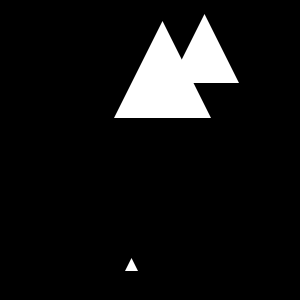triangle: (114, 21, 211, 118), (170, 14, 239, 83), (125, 258, 138, 271)
